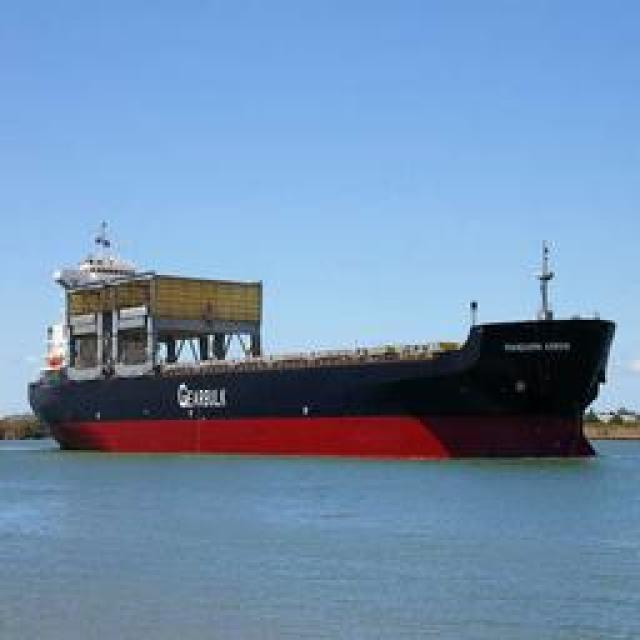CIV_Ship: (39, 222, 616, 446)
